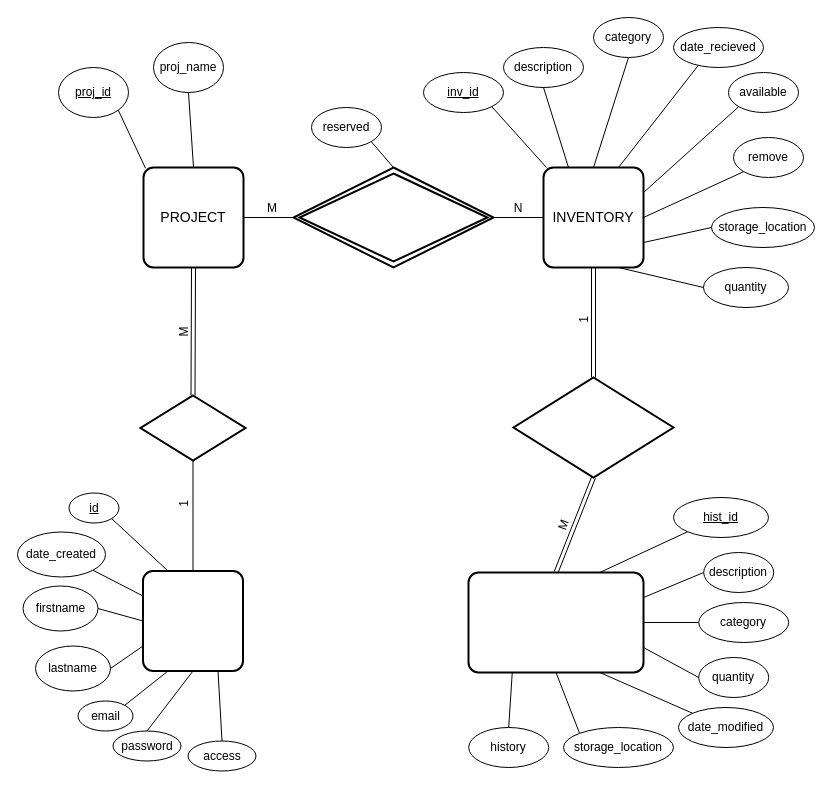
This 832x789 diagram has some shape labels left out. The shapes that lost their labels are listed below. From the top down, each one's centre as x and y in pixels, then its label:
At point 393,217: "PROJECT_ITEMS".
At point 192,427: "MANAGES".
At point 593,427: "ITEM_HISTORY".
At point 193,621: "USER".
At point 555,622: "INVENTORY_HISTORY".
